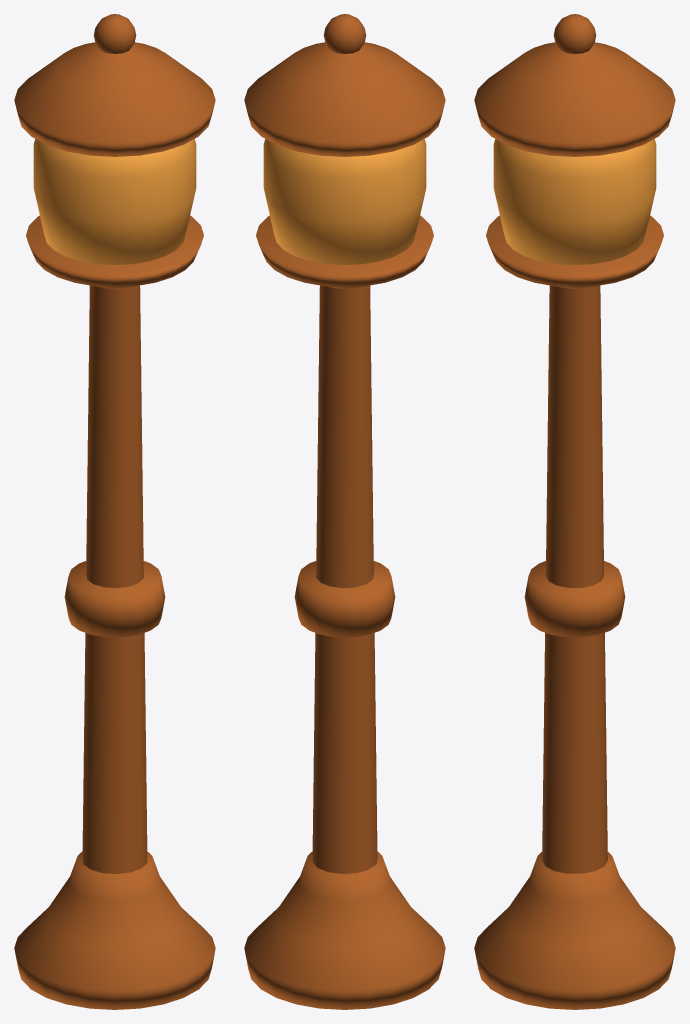
The model's file is lamp.glb.
The picture shows the model from 3 angles, left to right: view 1: azimuth 30°, elevation 25°; view 2: azimuth 150°, elevation 25°; view 3: azimuth 270°, elevation 25°; orthographic projection.
Parts seen in each view (by area): view 1: lamp; view 2: lamp; view 3: lamp.
Boxes of the visible parts, <box> form: lamp: <box>14,14,215,1009</box>; lamp: <box>244,14,445,1009</box>; lamp: <box>474,14,675,1009</box>.
Size of the model in its own units: 1.04 by 5.43 by 1.04.
